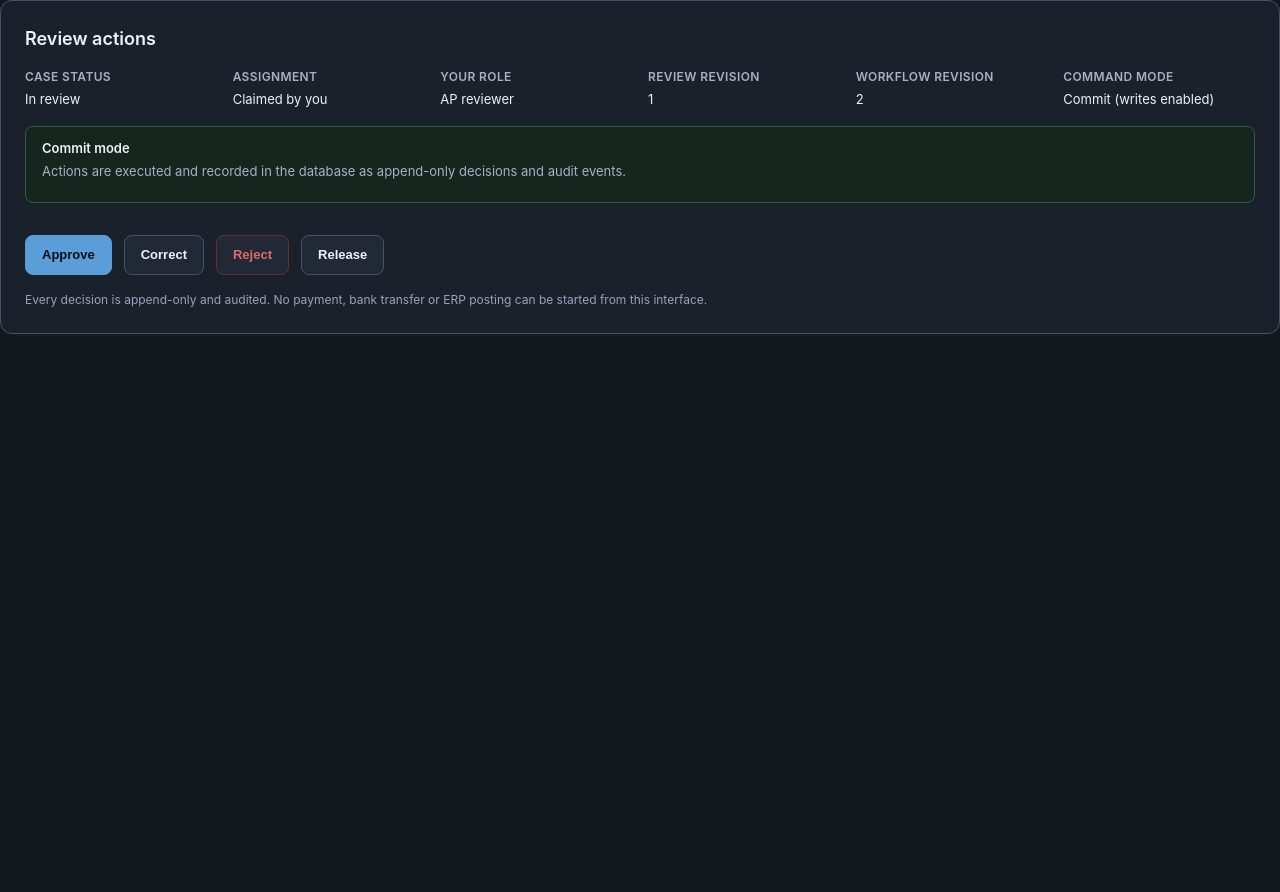
correction editor (task §13) › shows the immutable original value and only backend-listed targets
The image size is (1280, 892).
Click the button "Correct" at (164, 254), box [124,234,204,274]
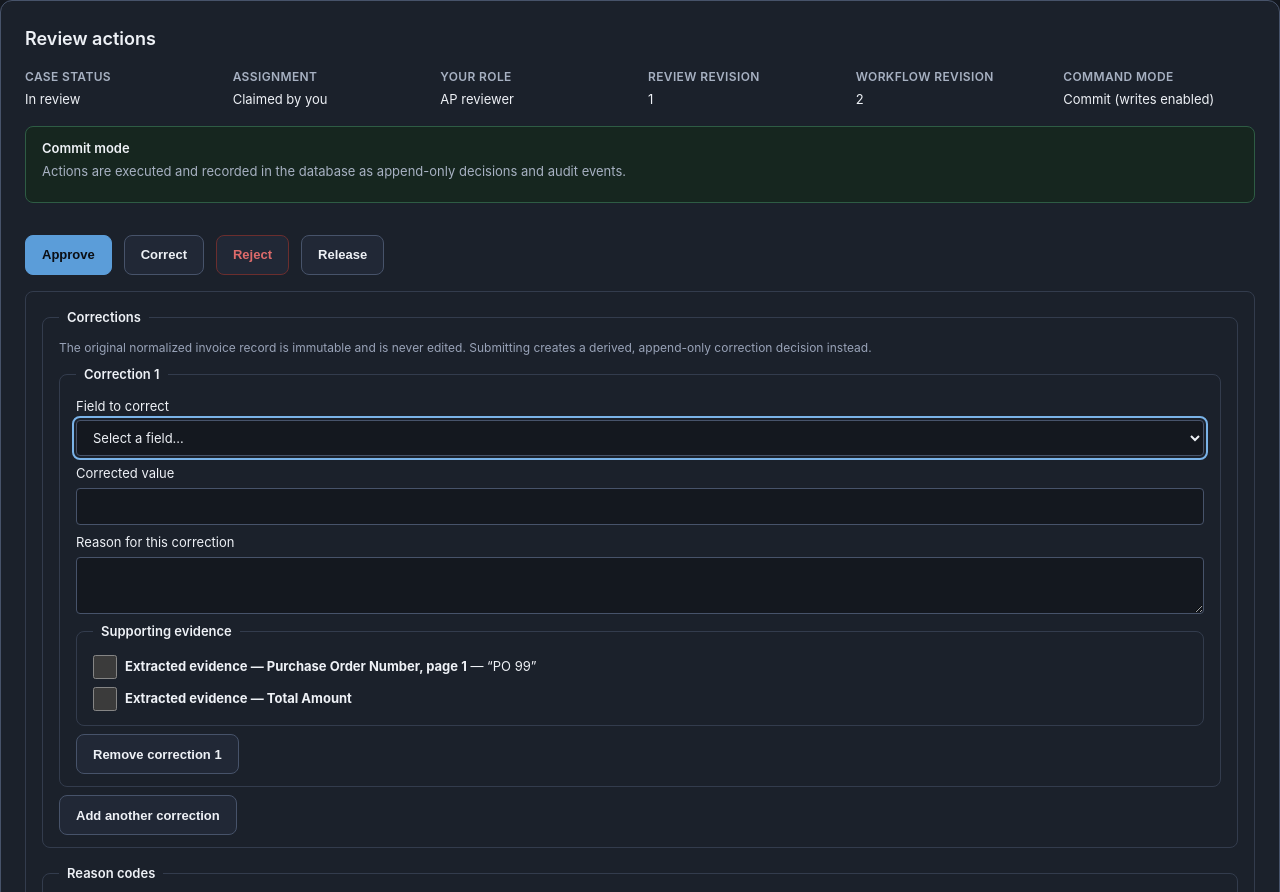
Select "Total Amount (header)" in the dropdown labelled "Field to correct" at (640, 438), box [76,420,1204,456]
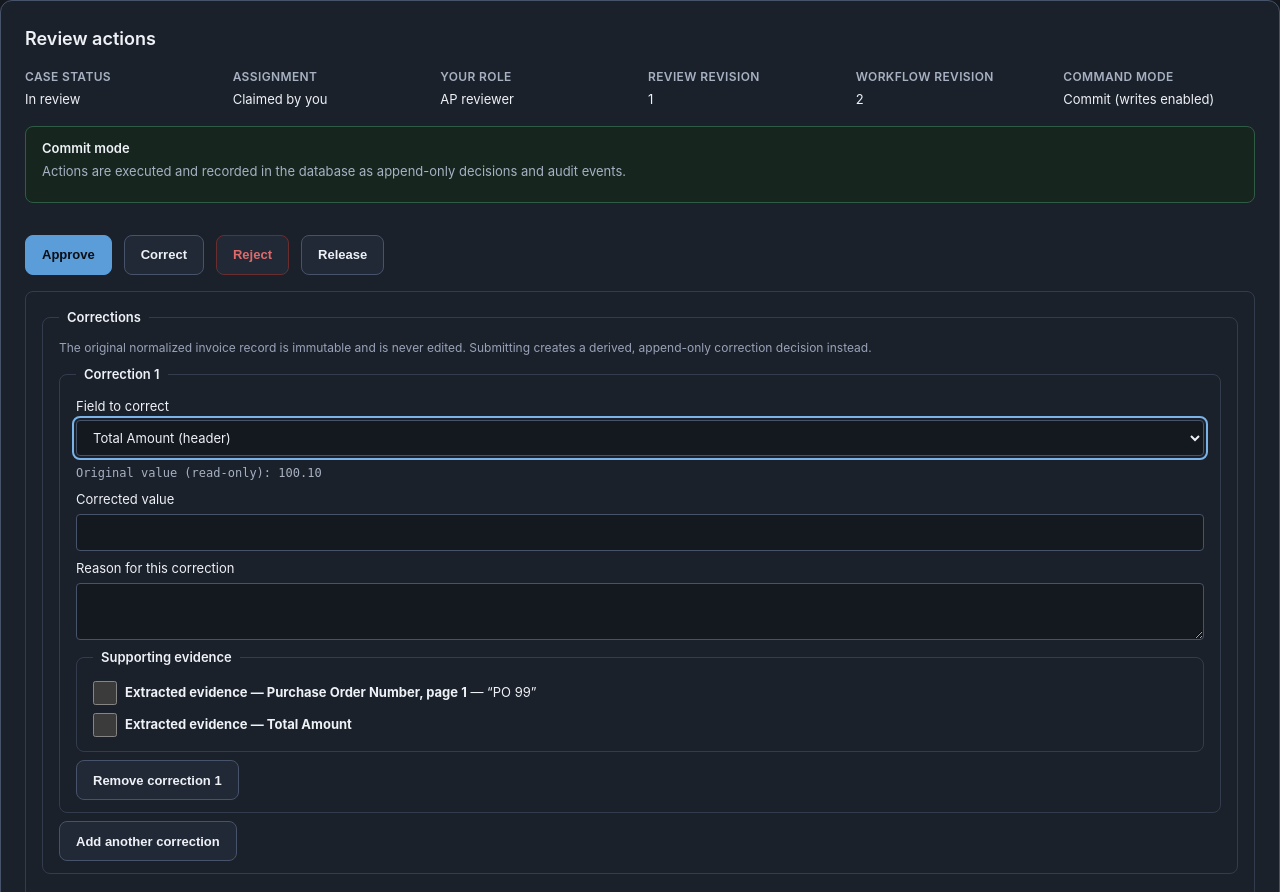
Now the text "original normalized invoice record is immutable" is shown, box [59,340,872,355]
Now the text with test id "correction-current-0" reads "100.10", box [278,466,322,480]
